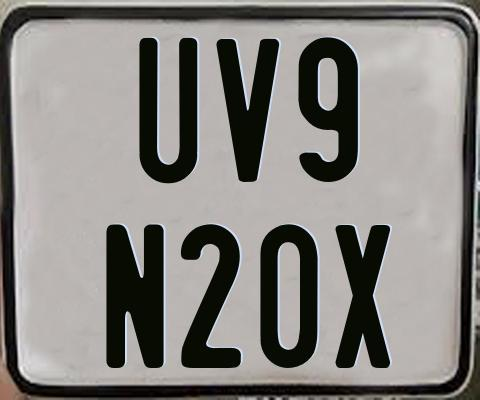0: (258, 222, 316, 370)
2: (178, 223, 243, 367)
9: (295, 34, 360, 184)
N: (104, 223, 168, 370)
U: (136, 38, 196, 186)
V: (216, 36, 284, 181)
X: (333, 224, 393, 369)
